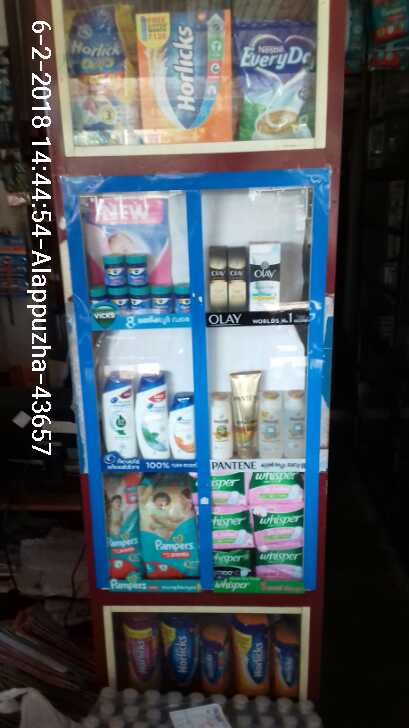vicks: (87, 257, 195, 313)
